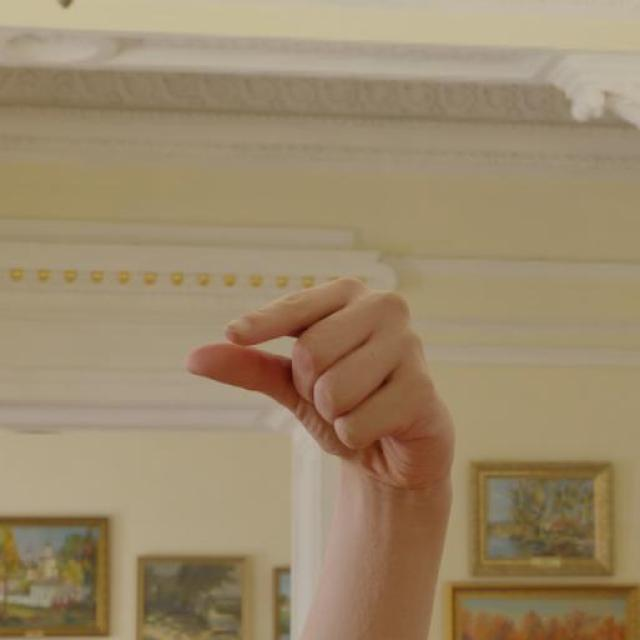G: (184, 274, 457, 484)
